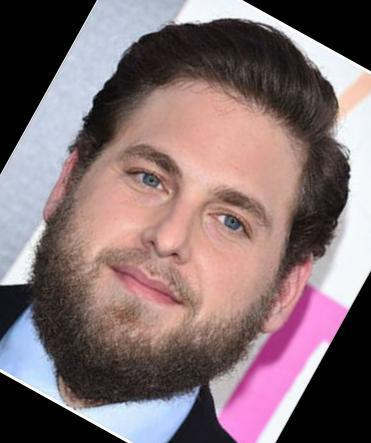Sober: (97, 103, 284, 333)
